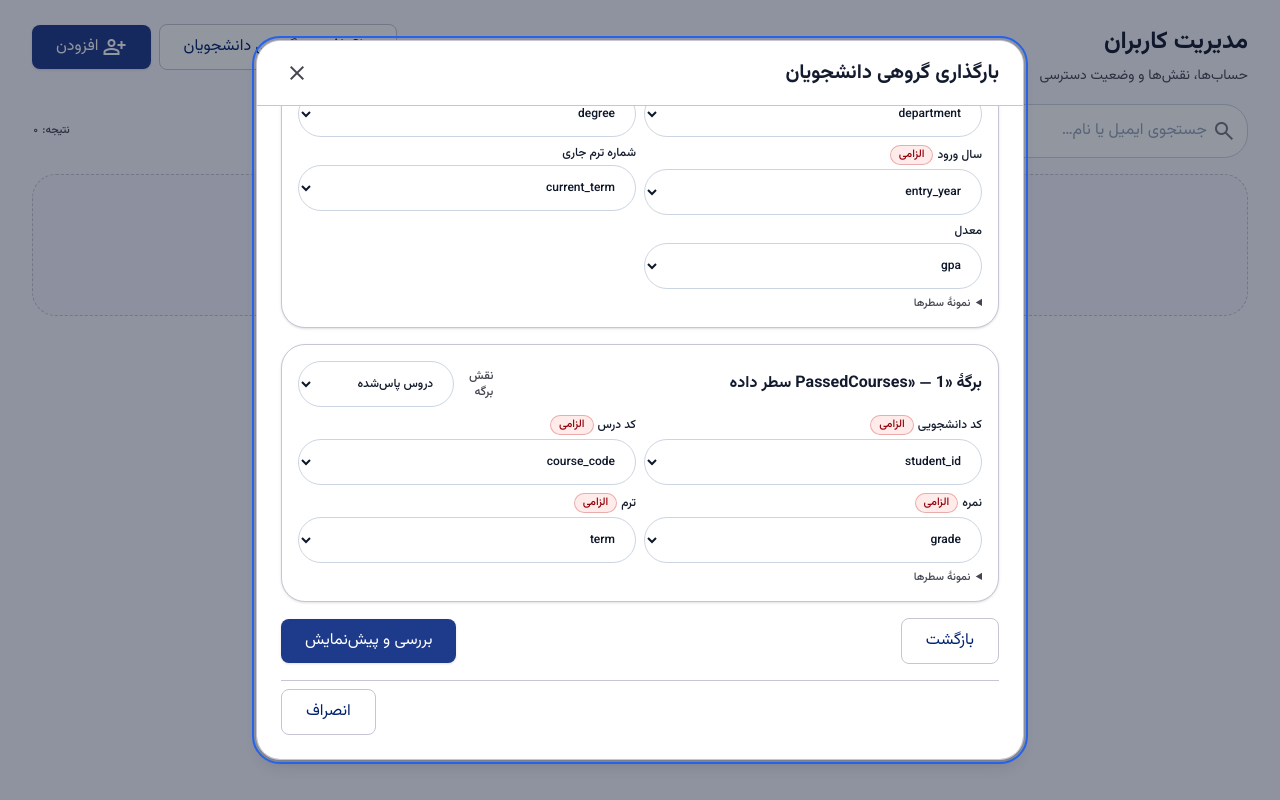
student import wizard › maps, previews, re-validates in upsert mode, and confirms the import
Earlier steps of the test are not shown.
(page scrolled)
Step 1. Click the button "بررسی و پیش‌نمایش" → (369, 641), box [281,619,456,663]
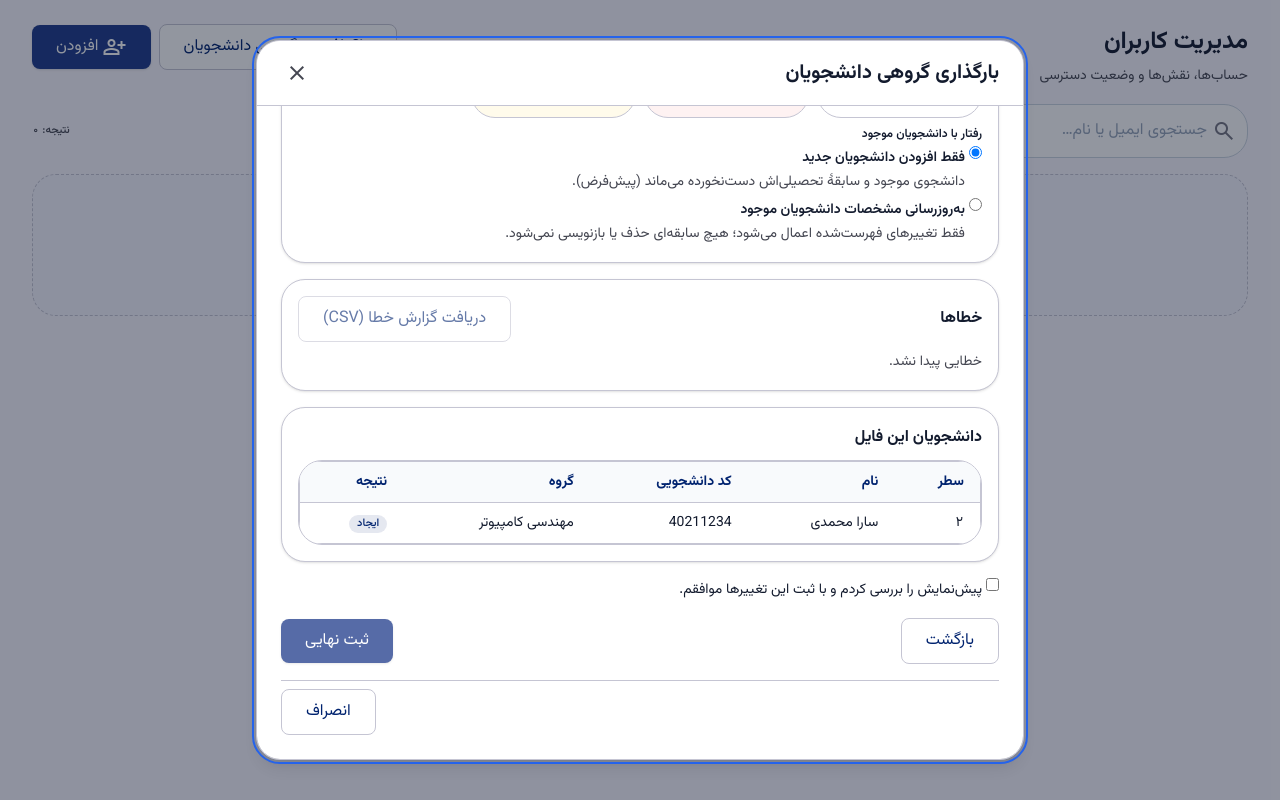
Now the text "40211234" is shown, box [590,502,748,544]
Step 2. Click the radio button labelled "به‌روزرسانی مشخصات" → (976, 204), box [969,198,982,211]
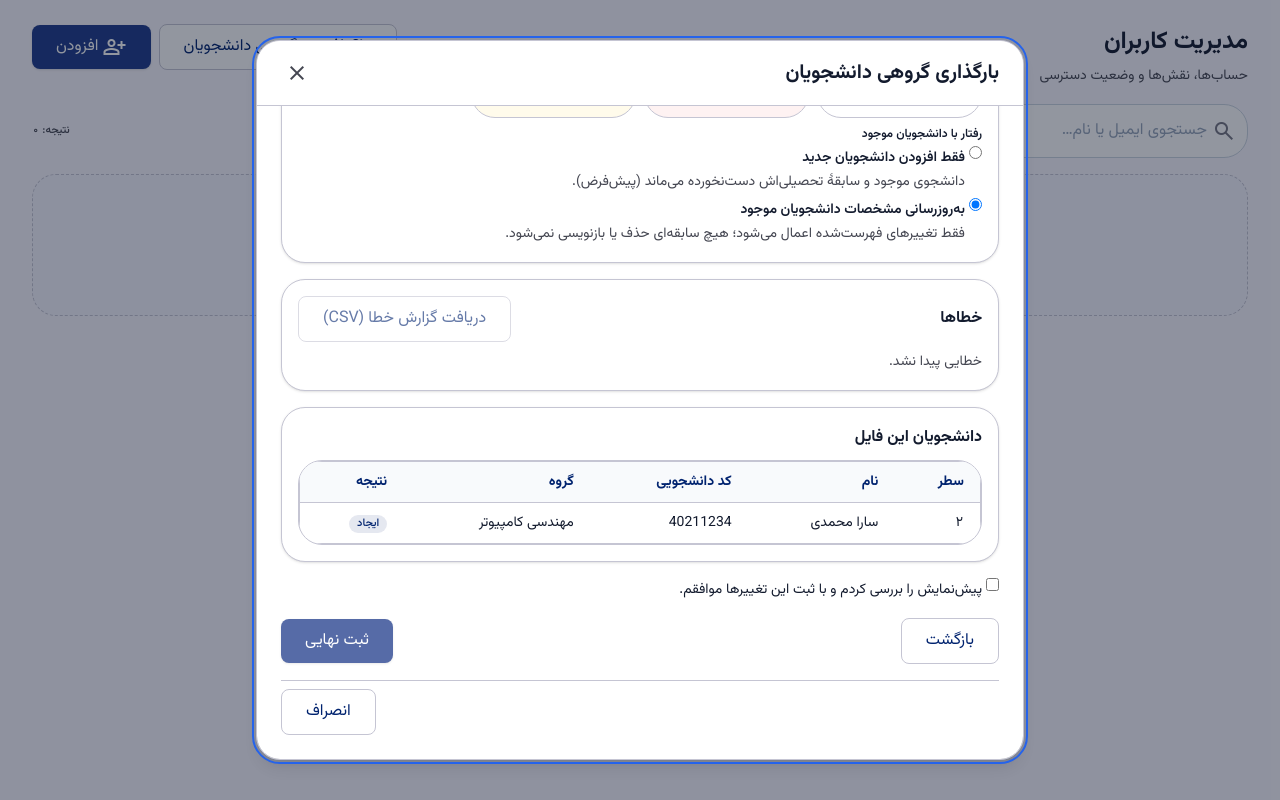
Now the button "ثبت نهایی" is disabled, box [281,619,393,663]
Step 3. Click the checkbox with test id "import-confirm-check" → (992, 584), box [986,578,999,591]
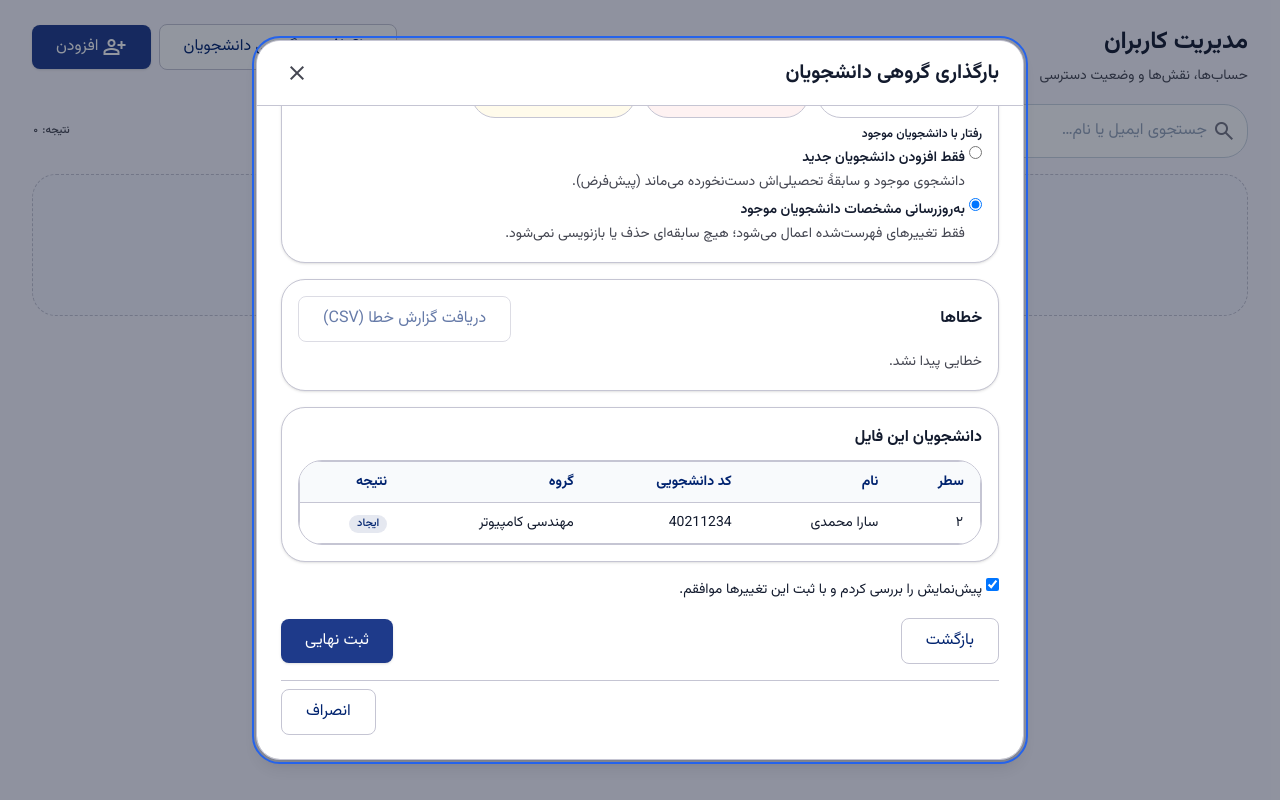
Now the button "ثبت نهایی" is enabled
Step 4. Click the button "ثبت نهایی" → (337, 641), box [281,619,393,663]
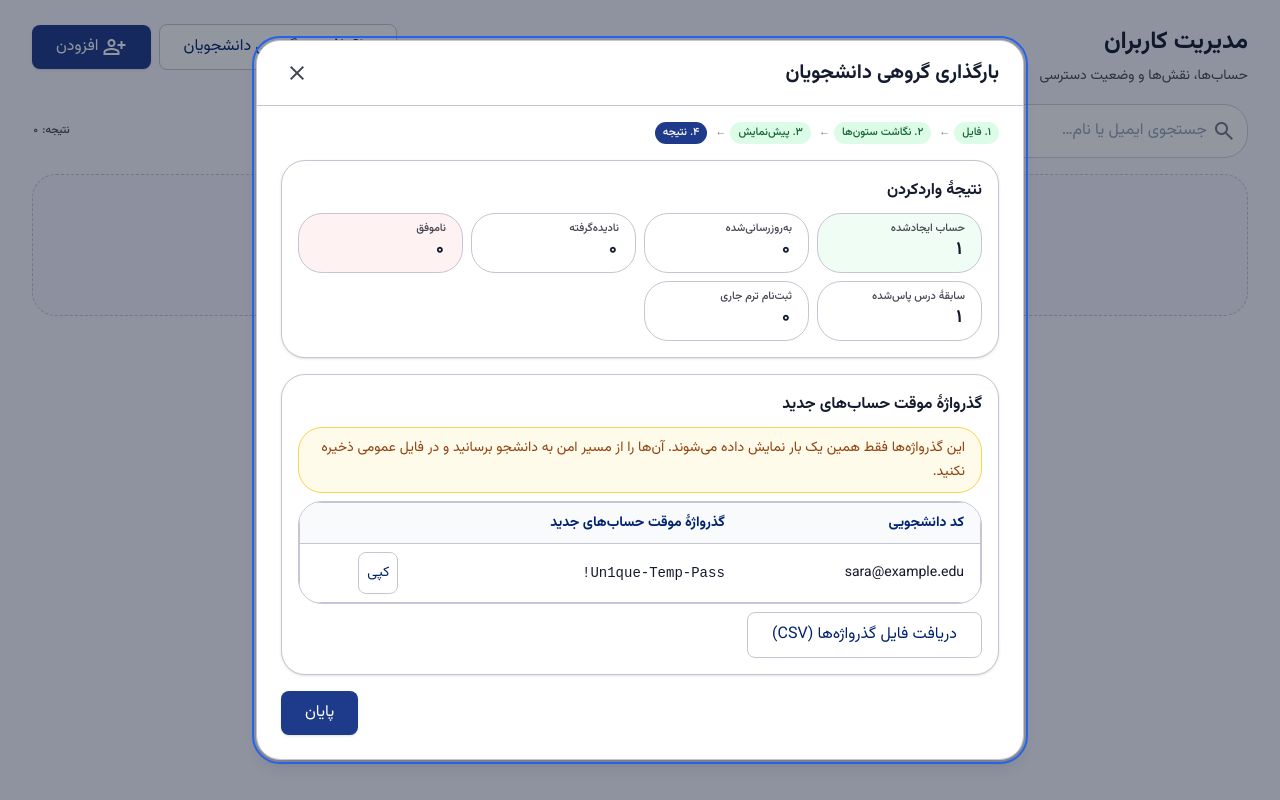
Now the heading "نتیجهٔ واردکردن" is shown, box [887,178,982,203]
Now the text "Un1que-Temp-Pass!" is shown, box [414,544,741,602]
